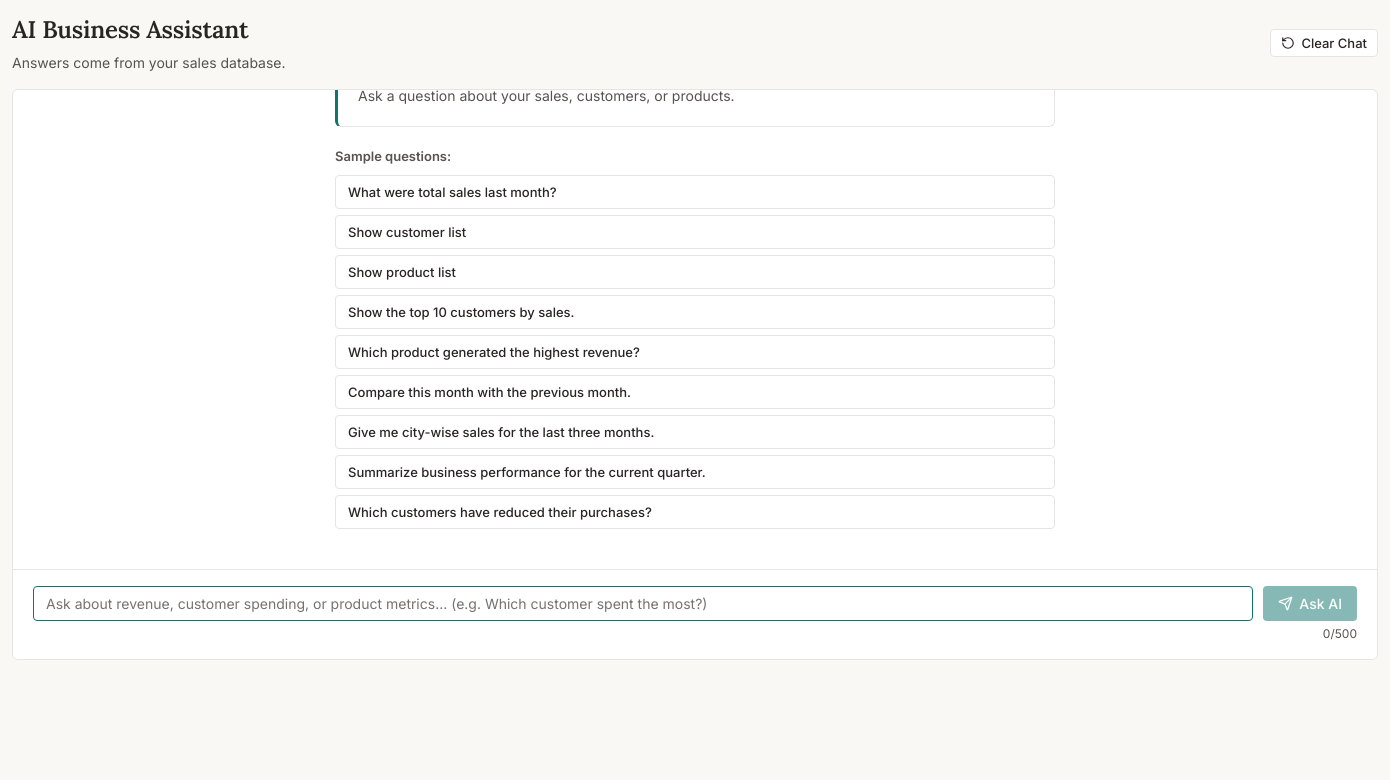
Scenario: AIAssistant Page Component › renders customer list results in existing table with formatCurrency
(page scrolled)
Click the button "Show customer list". click: x=407, y=232
box: left=335, top=214, right=1055, bottom=248
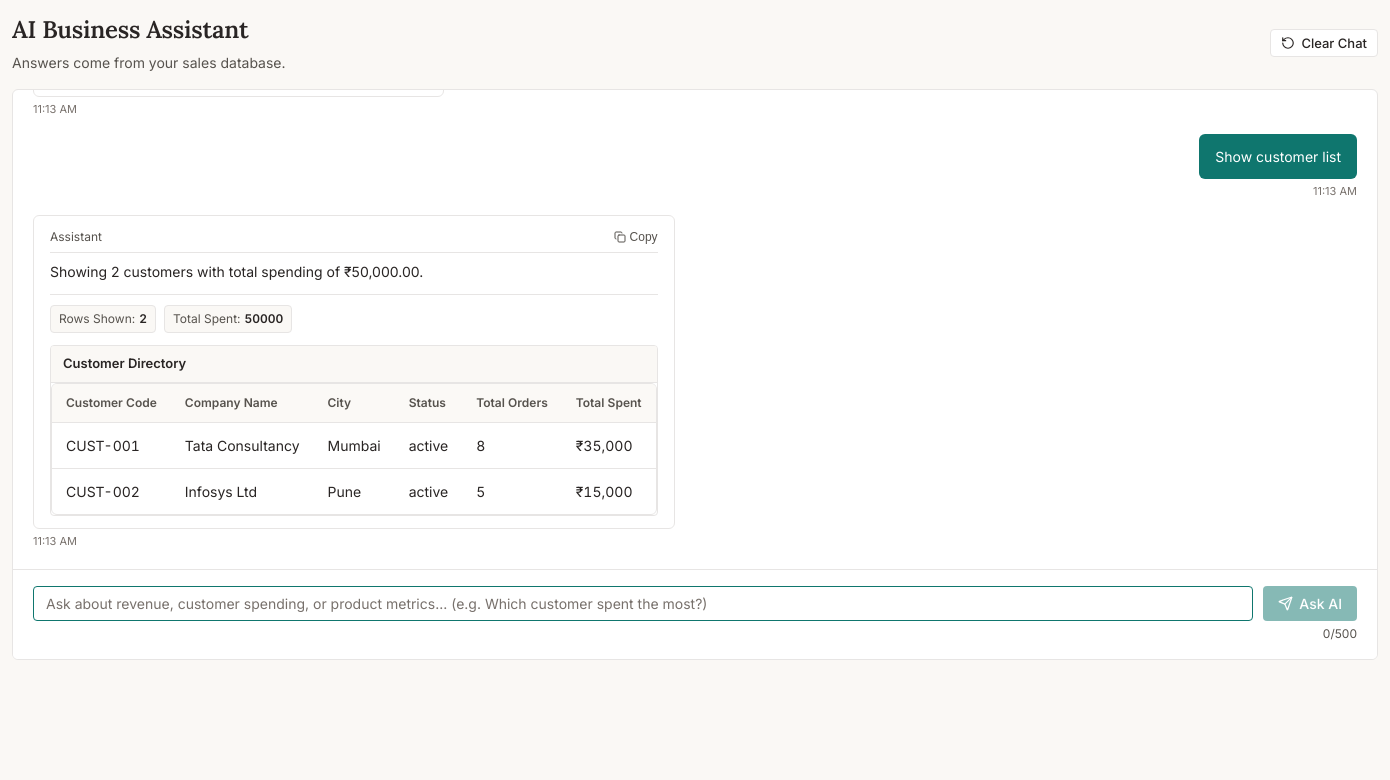
Expected: the text "Showing 2 customers with total spending of ₹50,000.00." is shown, left=50, top=263, right=423, bottom=280
Expected: the text "Tata Consultancy" is shown, left=171, top=422, right=314, bottom=468
Expected: the text "Infosys Ltd" is shown, left=171, top=468, right=314, bottom=514
